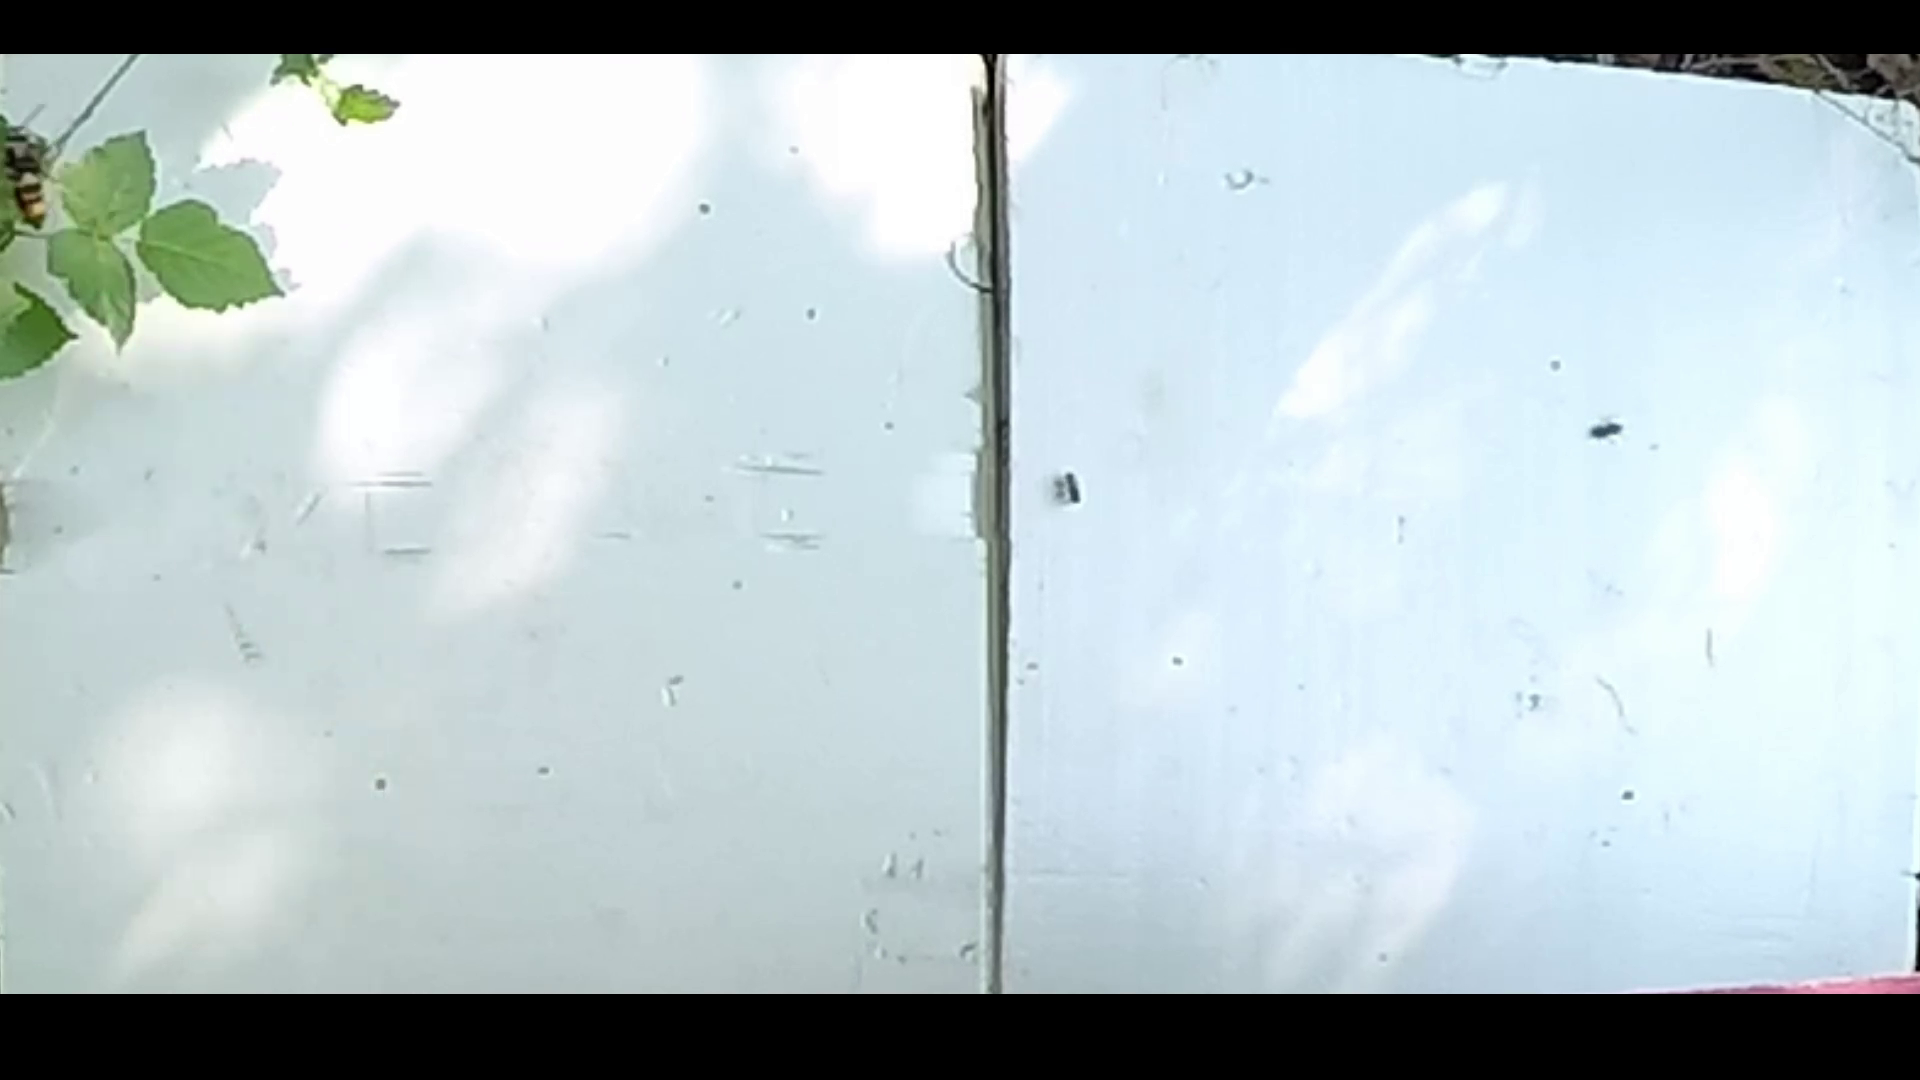Asian_hornets: (0, 99, 79, 243)
